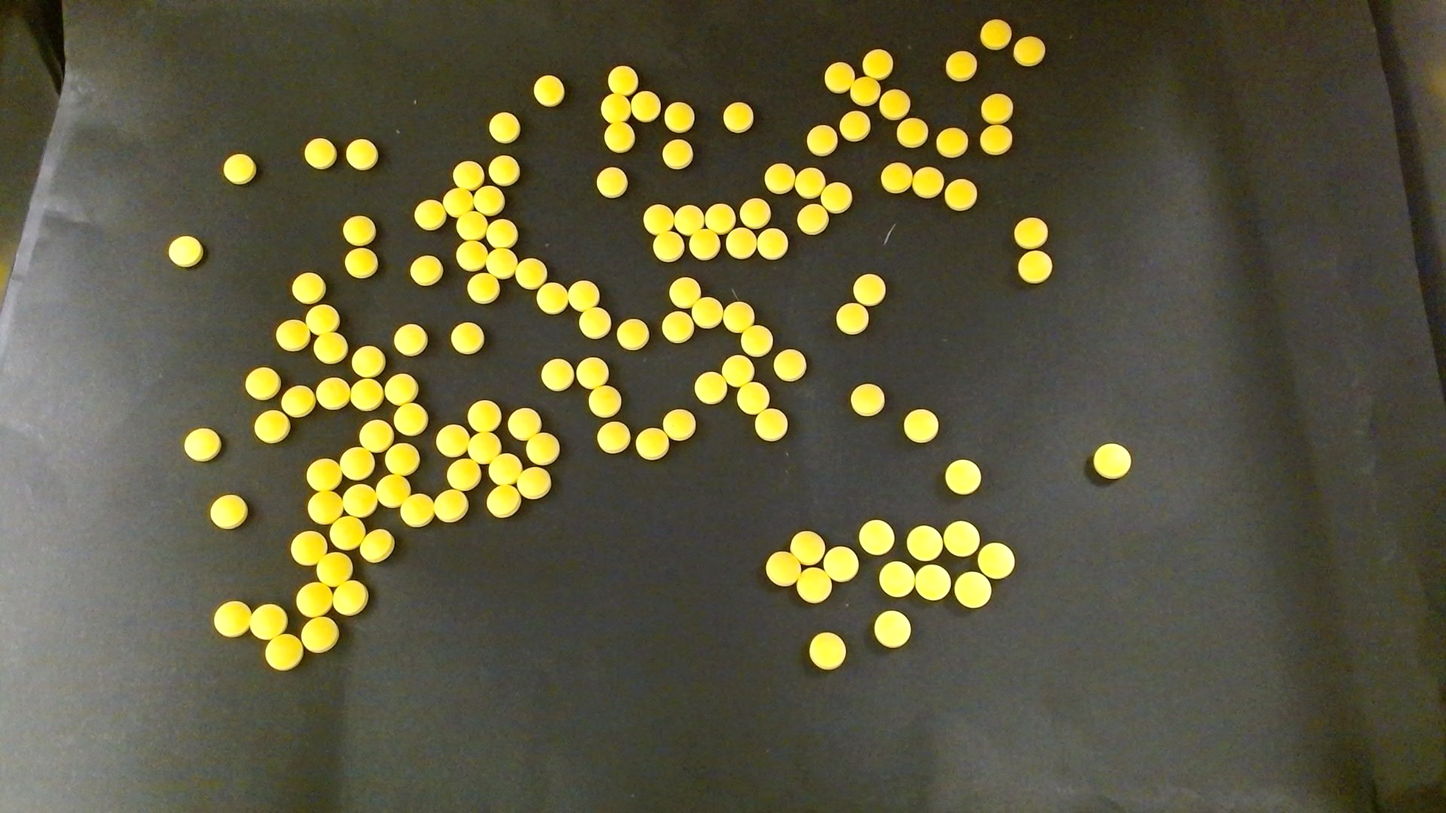Circle: (905, 525, 944, 563), (212, 600, 251, 638), (1092, 442, 1131, 479), (209, 494, 249, 530), (795, 565, 832, 603), (266, 634, 304, 671), (977, 542, 1014, 579), (874, 610, 911, 647), (954, 572, 991, 608), (810, 632, 846, 669), (249, 604, 287, 639), (878, 561, 914, 597), (296, 581, 332, 617), (823, 547, 859, 583), (306, 458, 342, 494), (944, 459, 980, 495), (342, 483, 379, 518), (943, 519, 978, 556), (331, 580, 368, 615), (300, 617, 337, 652), (183, 428, 221, 462), (914, 564, 950, 599), (859, 519, 894, 555), (330, 515, 365, 550), (316, 552, 352, 586), (307, 490, 343, 524), (291, 531, 327, 565), (359, 529, 395, 563), (253, 410, 290, 443), (385, 443, 421, 476), (167, 235, 204, 267), (400, 493, 434, 527), (766, 552, 800, 586), (446, 458, 481, 491), (275, 318, 310, 351), (359, 419, 394, 452), (486, 485, 521, 518), (244, 367, 279, 400), (903, 410, 938, 443), (1017, 250, 1052, 283), (596, 421, 630, 454), (489, 453, 523, 486), (393, 402, 427, 435), (910, 166, 943, 200), (434, 489, 468, 522), (377, 473, 410, 507), (316, 377, 350, 410), (393, 323, 427, 356), (688, 228, 722, 261), (792, 531, 825, 565), (450, 321, 484, 354), (850, 383, 884, 416), (352, 345, 385, 378), (468, 400, 501, 433), (385, 373, 418, 406), (314, 331, 347, 364), (540, 358, 573, 391), (340, 446, 374, 478), (517, 467, 551, 499), (349, 378, 383, 410), (526, 433, 560, 465), (880, 162, 912, 195), (468, 431, 501, 463), (436, 424, 469, 456), (1014, 216, 1047, 248), (508, 408, 541, 440), (755, 409, 788, 441), (291, 272, 325, 303), (636, 428, 668, 460), (774, 349, 806, 381), (306, 304, 338, 336), (944, 178, 976, 210), (576, 357, 609, 388), (281, 385, 314, 416), (223, 153, 256, 184), (854, 273, 885, 305), (737, 382, 769, 413), (467, 272, 499, 303), (413, 199, 445, 230), (617, 318, 648, 350), (652, 230, 684, 261), (410, 254, 442, 285), (980, 124, 1012, 155), (342, 215, 375, 245), (344, 248, 377, 278), (695, 372, 726, 403), (897, 117, 928, 148), (669, 276, 700, 307), (456, 239, 487, 270), (662, 312, 693, 343), (797, 203, 828, 234), (590, 385, 621, 416), (304, 138, 335, 169), (596, 166, 627, 197), (488, 111, 519, 142), (533, 75, 564, 106), (722, 355, 754, 385), (836, 303, 868, 333), (345, 139, 377, 169), (725, 228, 755, 259), (764, 163, 795, 193), (937, 127, 968, 157), (456, 209, 487, 239), (741, 325, 772, 355), (820, 181, 851, 211), (486, 248, 517, 278), (862, 49, 893, 79), (603, 121, 633, 152), (662, 139, 693, 169), (945, 50, 976, 80), (981, 93, 1012, 123), (516, 257, 546, 288), (453, 160, 484, 190), (980, 19, 1011, 49), (691, 297, 722, 327), (879, 89, 909, 119), (664, 102, 694, 132), (473, 184, 503, 214), (740, 197, 770, 227), (824, 62, 854, 92), (537, 282, 567, 312), (489, 154, 519, 184), (795, 166, 825, 196), (757, 229, 787, 259), (722, 102, 752, 132), (1013, 36, 1044, 65), (840, 111, 870, 140), (807, 125, 837, 154), (486, 219, 516, 248), (664, 410, 694, 439), (723, 302, 753, 331), (607, 65, 637, 94), (580, 307, 610, 336), (643, 204, 673, 233), (601, 93, 630, 123), (568, 281, 597, 311), (674, 204, 703, 234), (705, 203, 734, 232), (630, 91, 659, 120), (443, 187, 472, 216), (850, 77, 879, 105)
